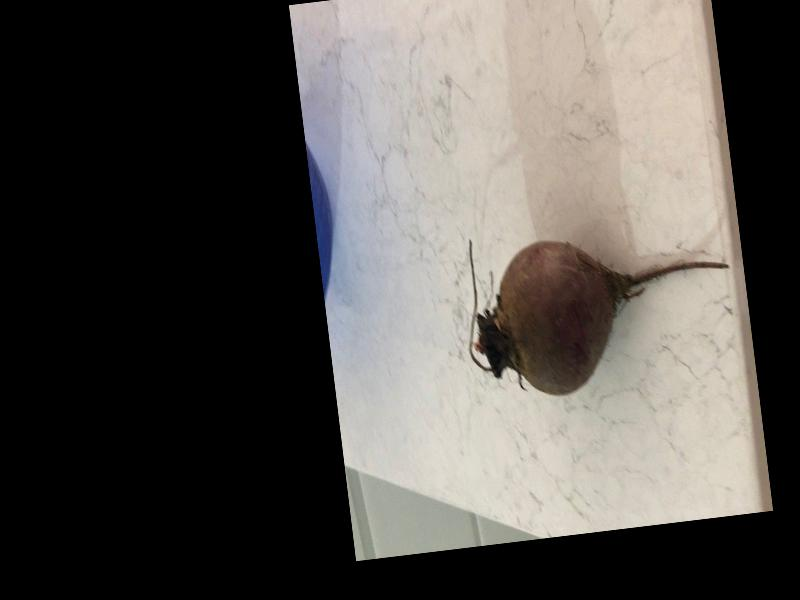Beet: (455, 208, 741, 404)
